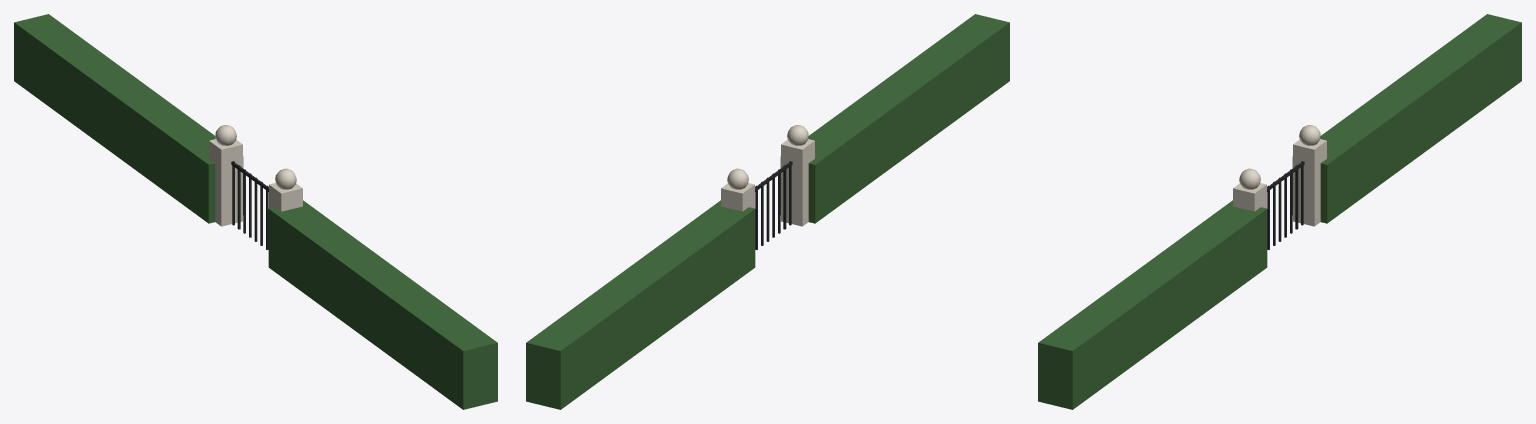
File: hedge-18.obj
3 views of the same model, side by side, from view 1: azimuth 30°, elevation 25°; view 2: azimuth 150°, elevation 25°; view 3: azimuth 330°, elevation 25° (orthographic).
Parts seen in each view (by area): view 1: part2, part1, part3, part5; view 2: part1, part2, part5, part3; view 3: part2, part1, part3, part5.
Boxes of the visible parts, bbox=[...] form: part2: bbox=[268, 200, 497, 409]; part1: bbox=[14, 14, 243, 223]; part3: bbox=[209, 139, 242, 226]; part5: bbox=[269, 183, 302, 211]; part1: bbox=[526, 200, 755, 409]; part2: bbox=[780, 14, 1009, 223]; part5: bbox=[781, 139, 814, 226]; part3: bbox=[721, 183, 754, 211]; part2: bbox=[1038, 200, 1267, 409]; part1: bbox=[1292, 14, 1521, 223]; part3: bbox=[1293, 139, 1326, 226]; part5: bbox=[1233, 183, 1266, 211].
Bounding box in the file's own units: 0.8 × 2.07 × 18.
